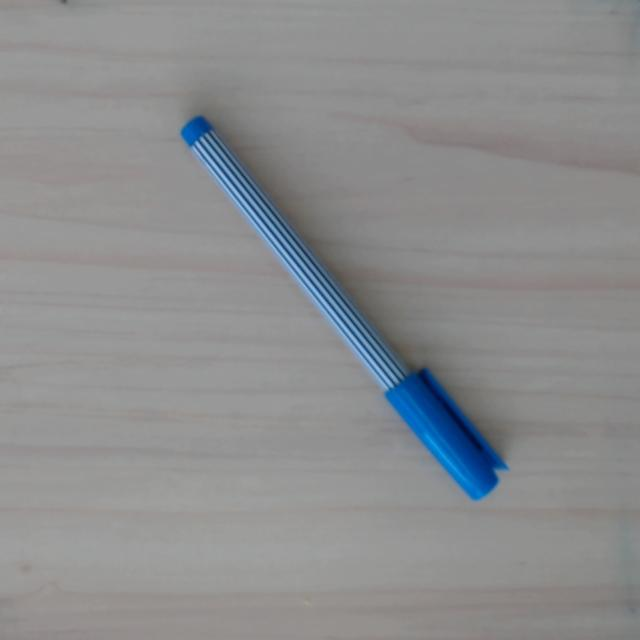Pulpen-Garis-Biru: (171, 104, 513, 506)
